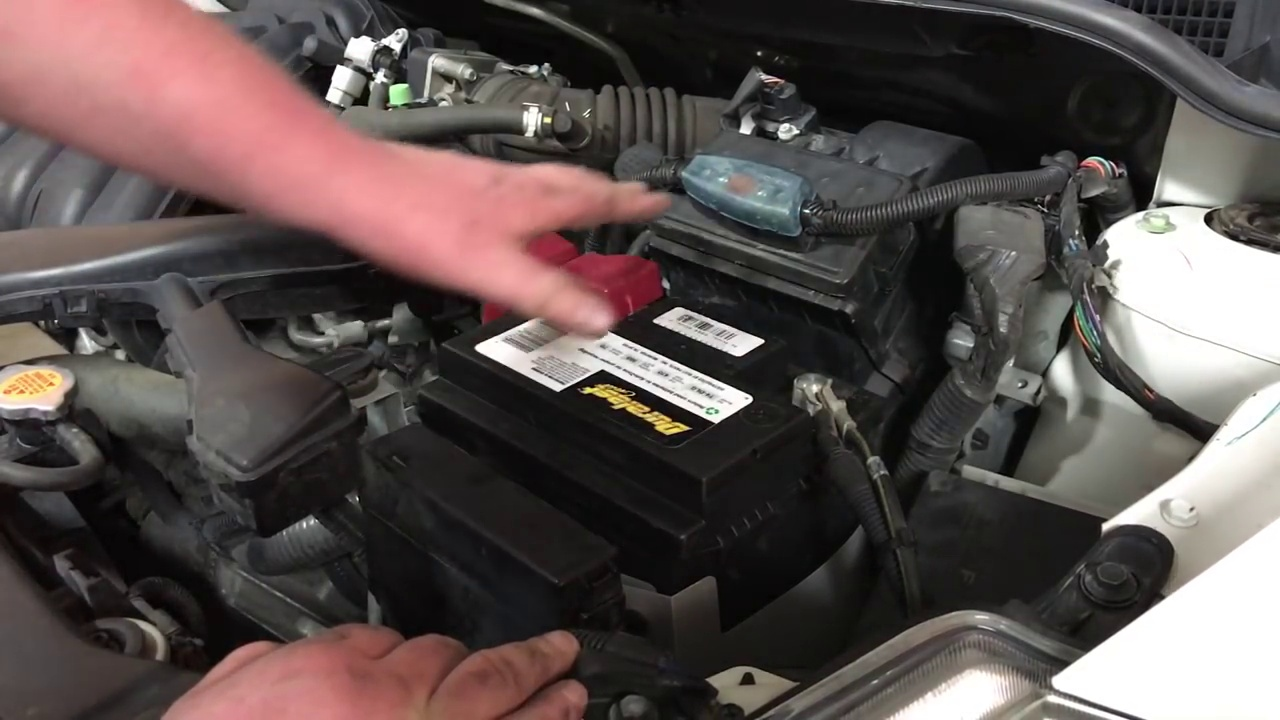battery: (435, 283, 860, 487)
neg_connected: (773, 356, 865, 454)
pos_touched: (461, 163, 696, 329)
